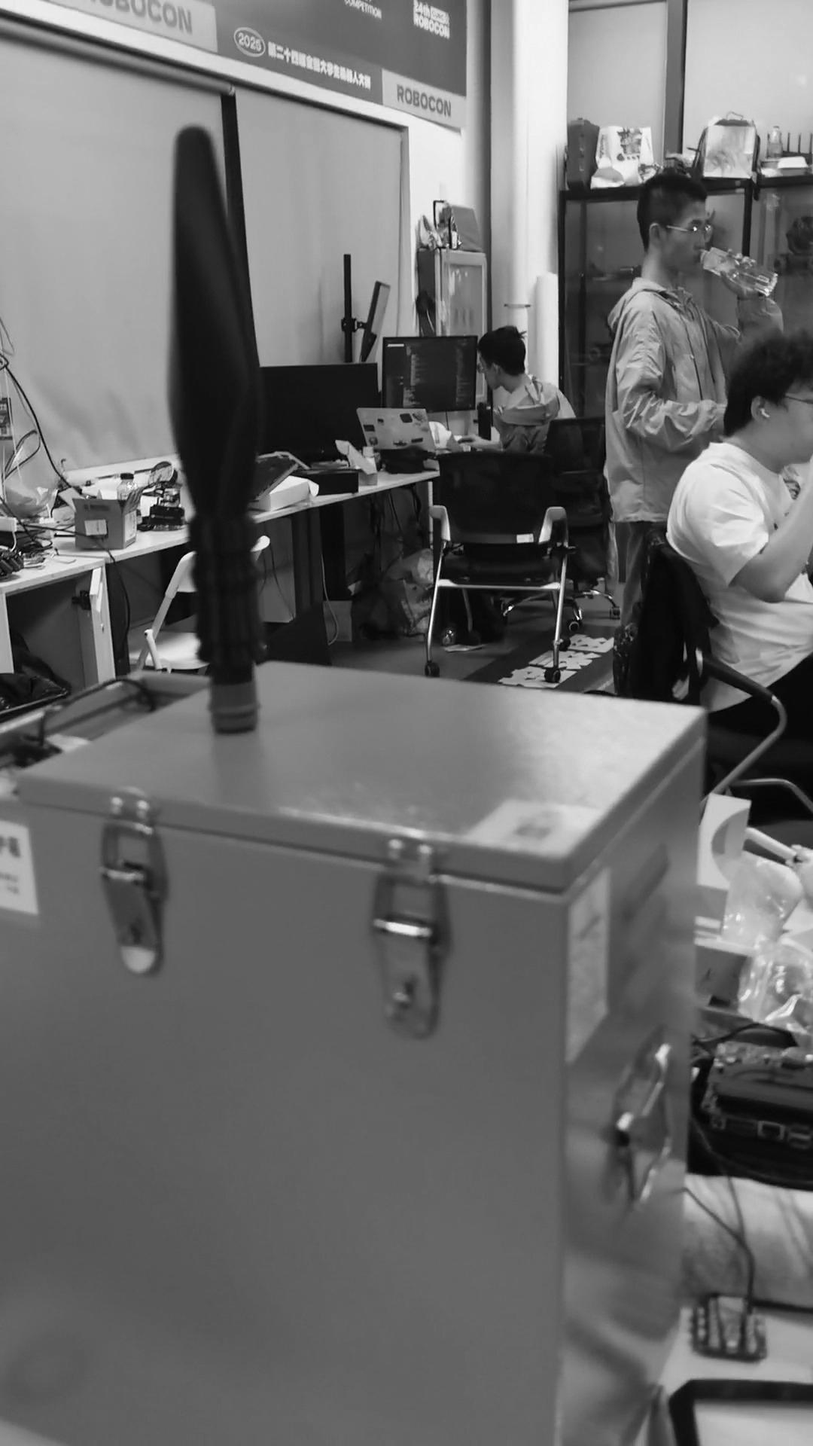base: (205, 680, 261, 737)
